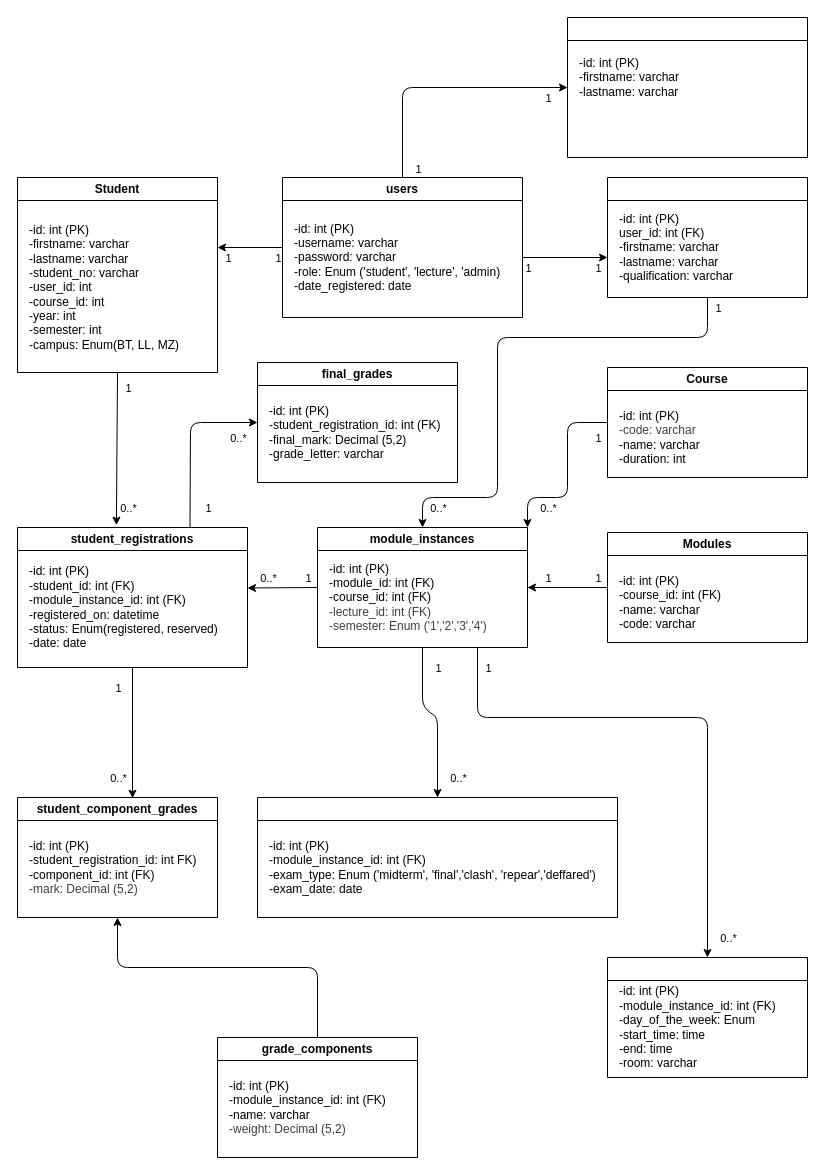
The diagram is 825 pixels wide and 1175 high, and some of its shapes have lost their labels. The shapes that lost their labels are listed below. From the top down, each one's box as (x1, y1, x2, y2) in pixels, then its label:
(566, 16, 808, 158): admin
(606, 176, 808, 298): lectures
(256, 796, 618, 918): Exams
(606, 956, 808, 1078): Timetables
